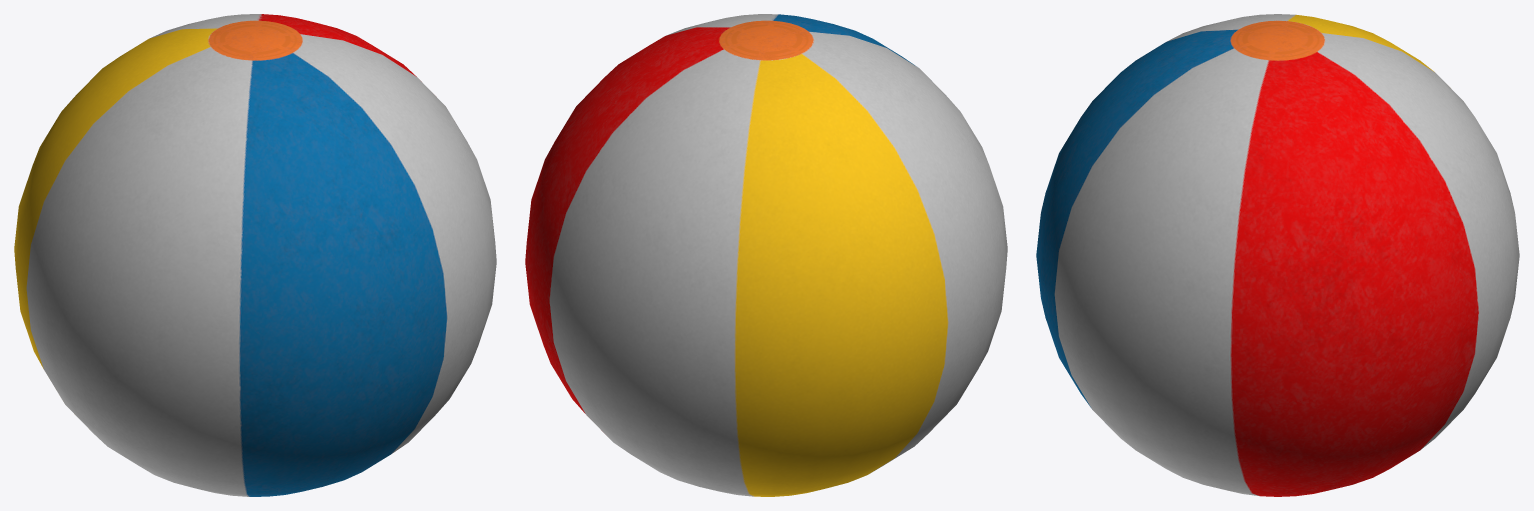
Rendered from beach_ball_low-poly.glb.
3 views of the same model, side by side, from view 1: azimuth 30°, elevation 25°; view 2: azimuth 150°, elevation 25°; view 3: azimuth 270°, elevation 25° (orthographic).
Visible parts, largest first — view 1: beach_ball; view 2: beach_ball; view 3: beach_ball.
Boxes of the visible parts, x1,y1,x2,y2 form: beach_ball: [14, 14, 496, 496]; beach_ball: [525, 14, 1007, 496]; beach_ball: [1036, 14, 1519, 496].
Size of the model in its own units: 0.2729 by 0.2722 by 0.2729.
1 material, 1 textured.
